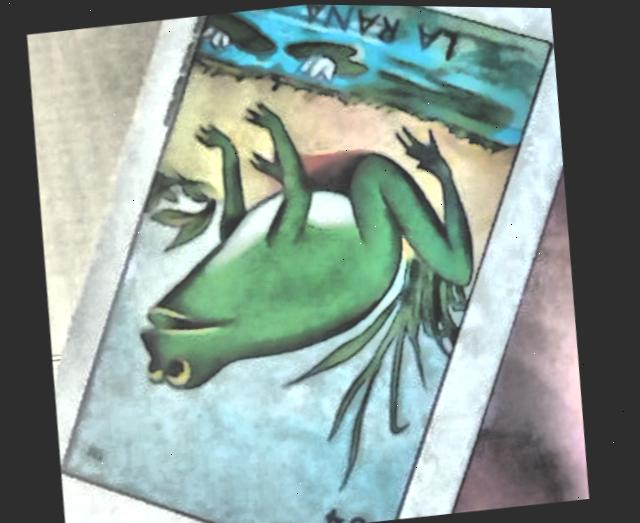La Rana: (68, 4, 550, 523)
